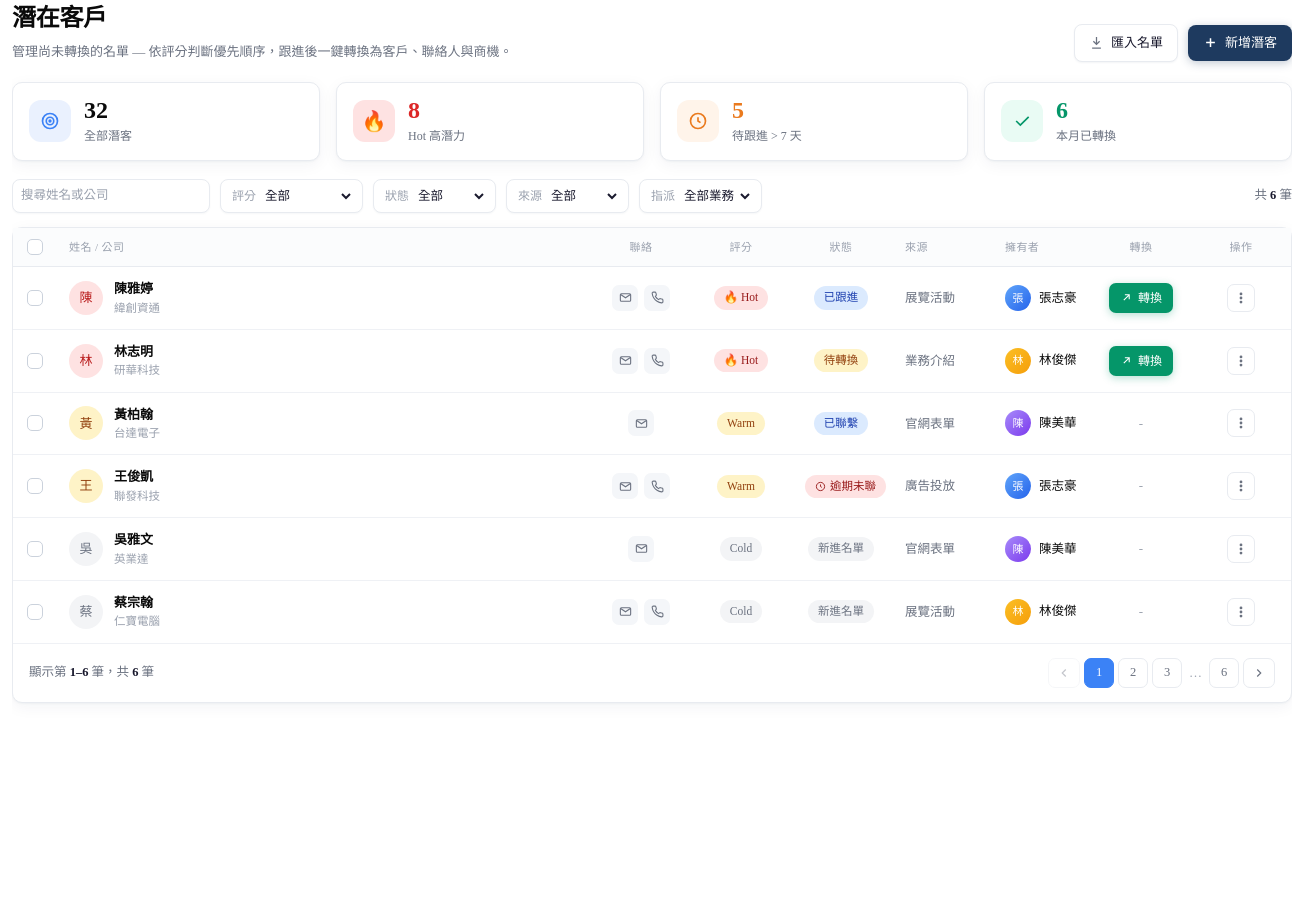
Test case: Leads 搜尋 › 無相符時顯示空狀態訊息
In the search field named "搜尋潛客": (111, 196) 21,180 -> 201,212, type "zzz不存在的關鍵字"
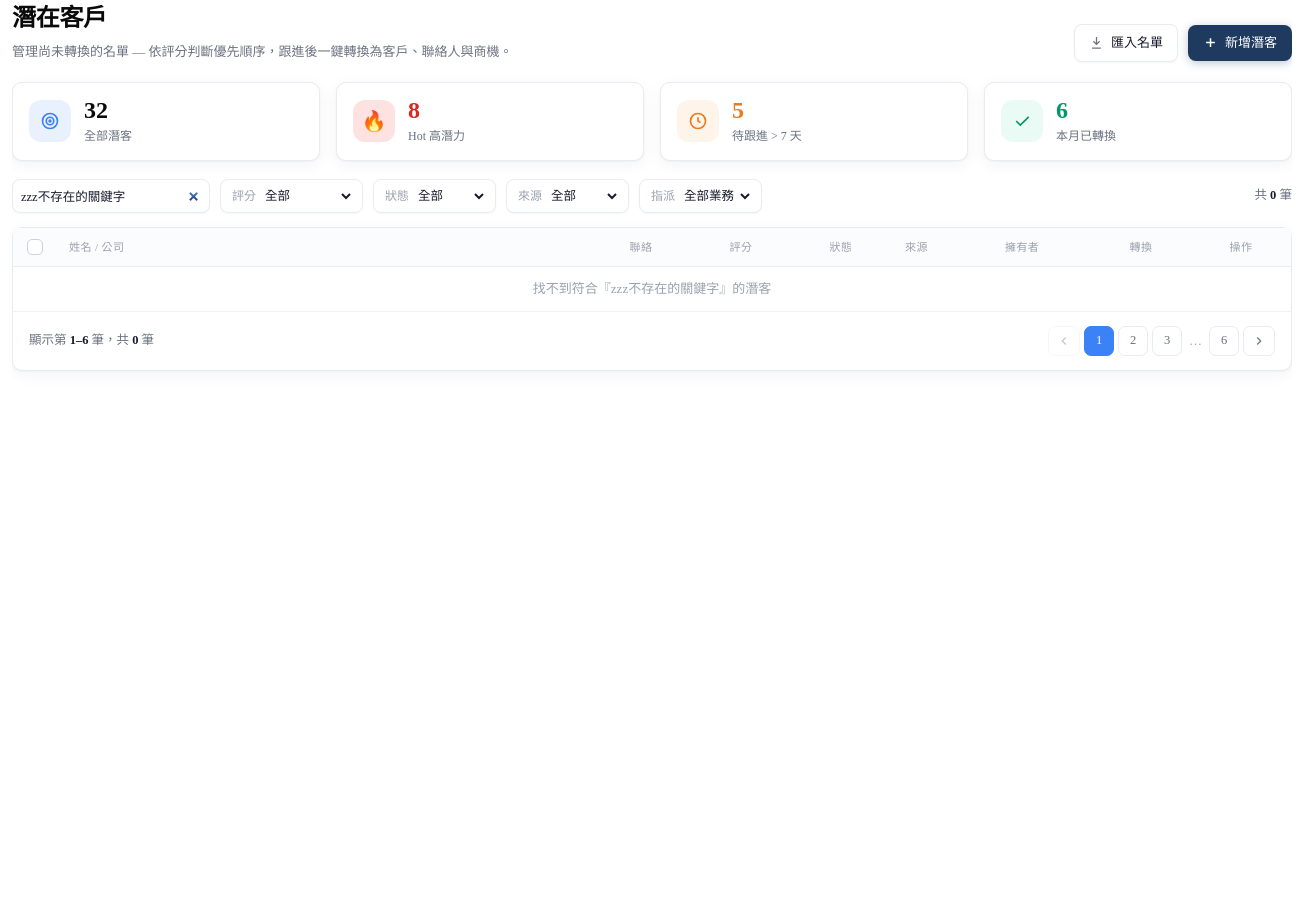
Now the text "找不到符合『zzz不存在的關鍵字』的潛客" is shown, box 13,266 -> 1291,310
Now the text "陳雅婷" is gone
